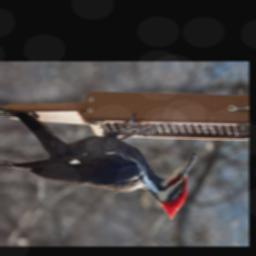Woodpecker: (0, 95, 202, 229)
